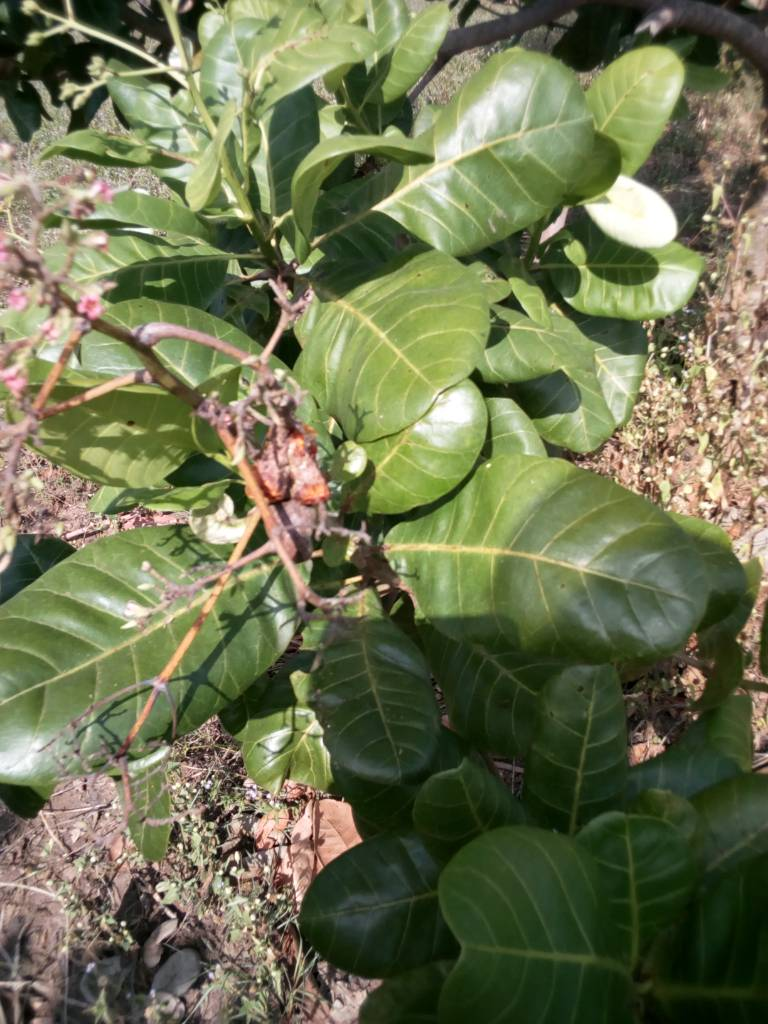Dessèchement des bourgeons: (200, 346, 347, 557), (50, 656, 175, 805)
